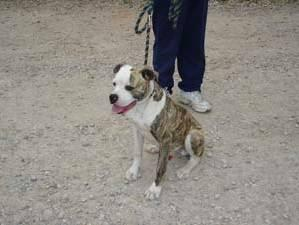dog: (109, 63, 204, 197)
